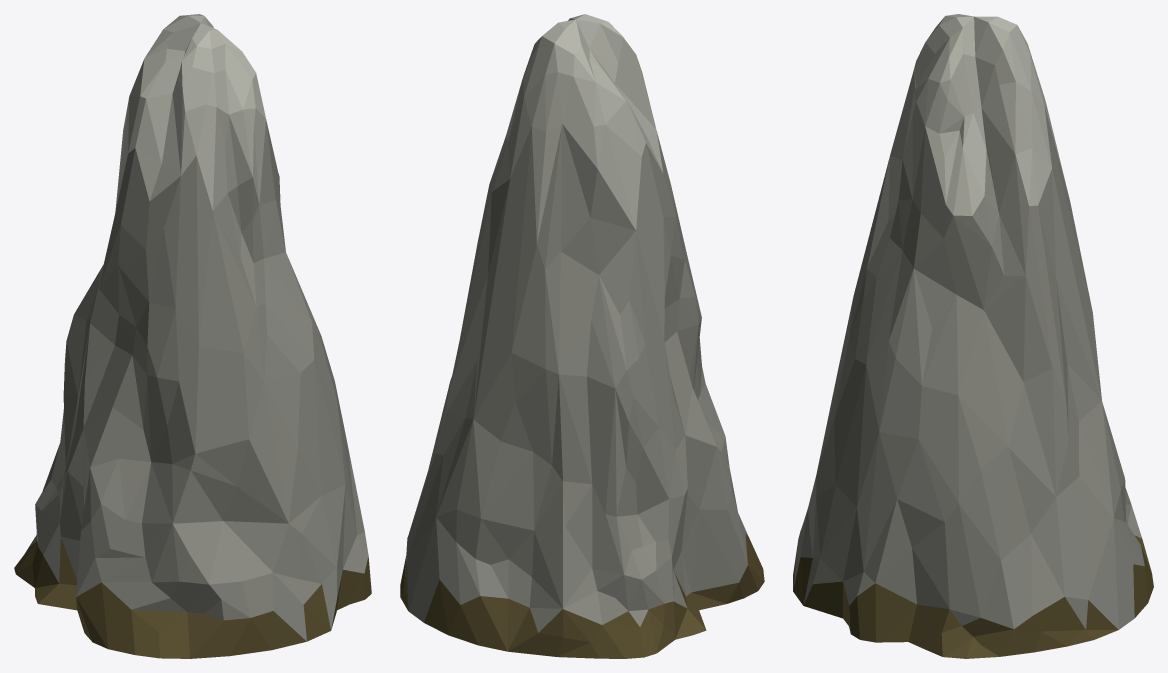
File: Mountain-XY4ej3Zg3I.glb
3 views of the same model, side by side, from view 1: azimuth 30°, elevation 25°; view 2: azimuth 150°, elevation 25°; view 3: azimuth 270°, elevation 25° (orthographic).
Visible parts, largest first — view 1: Mountain-XY4ej3Zg3I; view 2: Mountain-XY4ej3Zg3I; view 3: Mountain-XY4ej3Zg3I.
Boxes of the visible parts, left/top/right/bottom form: Mountain-XY4ej3Zg3I: left=14, top=14, right=371, bottom=658; Mountain-XY4ej3Zg3I: left=400, top=14, right=764, bottom=658; Mountain-XY4ej3Zg3I: left=793, top=14, right=1153, bottom=658.
Bounding box in the file's own units: 2.16 × 3.82 × 2.21.
